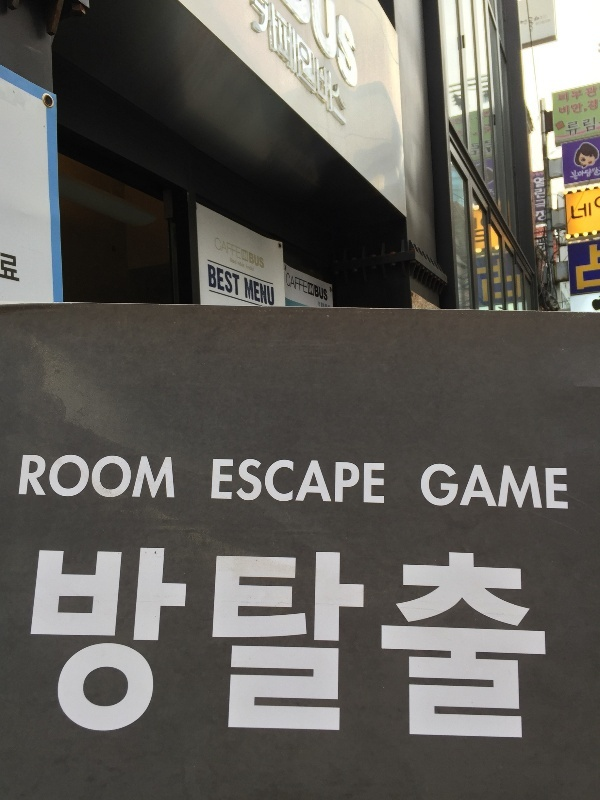text: (49, 539, 64, 751), (65, 539, 80, 751), (81, 539, 96, 751), (97, 539, 112, 751), (113, 539, 128, 751), (129, 539, 144, 751), (145, 539, 160, 751), (161, 539, 176, 751), (177, 539, 192, 751), (193, 539, 208, 751), (209, 539, 224, 751), (225, 539, 240, 751), (241, 539, 256, 751), (257, 539, 272, 751), (273, 539, 288, 751), (289, 539, 304, 751), (305, 539, 320, 751), (321, 539, 336, 751), (337, 539, 352, 751), (353, 539, 368, 751), (369, 539, 384, 751), (385, 539, 400, 751), (401, 539, 416, 751), (417, 539, 432, 751), (433, 539, 448, 751), (449, 539, 464, 751), (465, 539, 480, 751), (481, 539, 496, 751), (497, 539, 512, 751), (513, 539, 528, 751), (529, 539, 544, 751), (38, 539, 48, 751), (273, 1, 288, 130), (289, 1, 304, 130), (305, 1, 320, 130), (321, 1, 336, 130), (545, 539, 552, 751), (289, 1, 304, 97), (305, 1, 320, 97), (321, 1, 336, 97), (337, 1, 352, 97), (337, 1, 347, 130), (369, 455, 385, 508), (225, 455, 240, 508), (241, 455, 256, 508), (257, 455, 272, 508), (273, 455, 288, 508), (289, 455, 304, 508), (305, 455, 320, 508), (321, 455, 336, 508), (337, 455, 352, 508), (353, 455, 368, 508), (33, 451, 48, 503), (49, 451, 64, 503), (65, 451, 80, 503), (81, 451, 96, 503), (97, 451, 112, 503), (113, 451, 128, 503), (129, 451, 144, 503), (145, 451, 160, 503), (161, 451, 176, 503), (433, 461, 448, 511), (449, 461, 464, 511), (465, 461, 480, 511), (481, 461, 496, 511), (497, 461, 512, 511), (513, 461, 528, 511), (529, 461, 544, 511), (545, 461, 560, 511), (577, 242, 592, 292), (212, 455, 224, 508), (353, 1, 359, 97), (421, 461, 432, 511), (22, 451, 32, 503), (533, 176, 544, 223), (209, 264, 224, 297), (225, 264, 240, 297), (283, 1, 288, 97), (1, 252, 16, 283), (257, 277, 272, 307), (561, 461, 569, 511), (225, 235, 240, 261), (244, 277, 256, 307), (593, 242, 600, 292), (289, 272, 304, 295), (515, 273, 528, 299), (577, 116, 592, 137), (481, 265, 489, 303), (561, 84, 576, 104), (577, 84, 592, 104), (473, 208, 480, 250), (577, 202, 592, 221), (561, 100, 576, 118), (577, 165, 592, 183), (270, 1, 272, 130), (497, 258, 503, 300), (488, 218, 496, 249), (215, 235, 224, 261), (565, 116, 576, 137), (450, 113, 464, 127), (241, 257, 254, 272), (486, 165, 496, 184), (484, 139, 496, 154), (577, 100, 587, 118), (483, 123, 496, 136), (242, 250, 256, 262), (481, 208, 485, 250), (321, 284, 329, 303), (230, 257, 240, 272), (506, 274, 512, 299), (573, 242, 576, 292), (308, 284, 320, 296), (471, 141, 480, 156), (249, 251, 256, 270), (257, 251, 264, 270), (533, 17, 544, 29), (569, 165, 576, 183), (593, 165, 600, 183), (530, 170, 544, 179), (493, 258, 496, 300), (533, 13, 544, 24), (483, 108, 496, 117), (314, 284, 320, 303), (477, 265, 480, 303), (593, 297, 600, 313), (537, 238, 544, 253), (593, 84, 598, 104), (455, 127, 464, 138), (571, 202, 576, 221), (545, 176, 547, 223), (17, 252, 20, 283), (497, 218, 500, 249), (486, 159, 496, 168), (594, 196, 600, 209), (321, 302, 336, 307), (488, 188, 496, 197), (545, 17, 551, 29), (587, 99, 592, 113), (593, 99, 598, 113), (305, 272, 308, 295), (593, 116, 596, 137), (273, 277, 275, 307), (475, 162, 480, 174), (557, 84, 560, 104), (473, 130, 480, 137), (286, 272, 288, 295), (325, 303, 336, 307), (558, 100, 560, 118), (207, 264, 208, 297), (545, 13, 548, 24), (241, 235, 242, 261), (513, 274, 514, 299), (545, 238, 546, 253), (318, 301, 320, 307), (481, 162, 482, 174)
